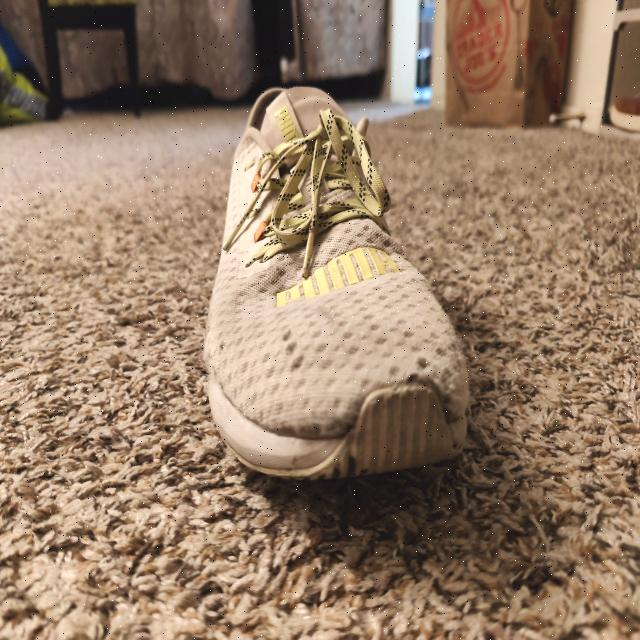white shoes: (221, 88, 465, 475)
